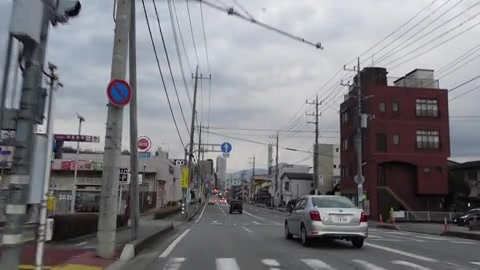traffic_sign: (101, 75, 135, 108), (221, 139, 233, 154)
